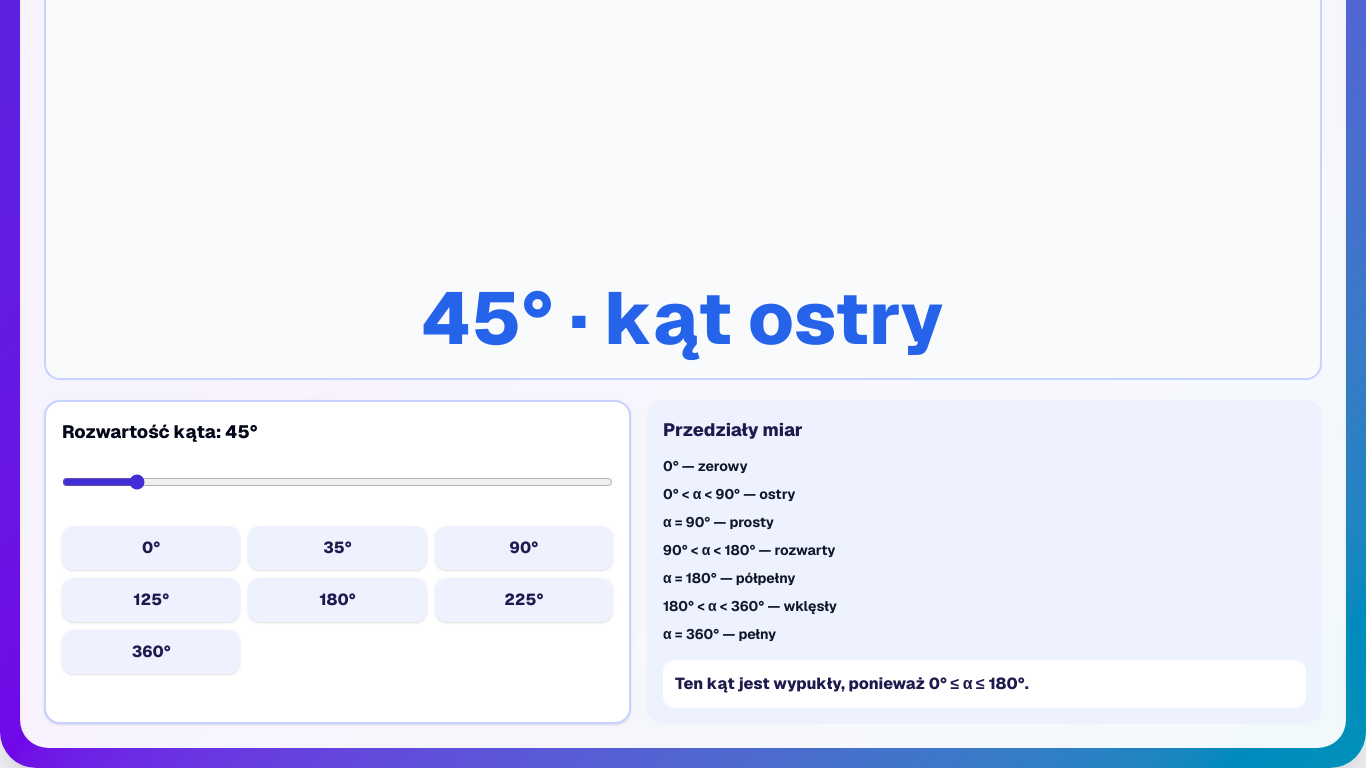
Test: M5-4.2 — rozpoznawanie kątów › zmienia wyłącznie rozwartość od 0° do 360° i podaje pełną klasyfikację
The width and height of the screenshot is (1366, 768).
(page scrolled)
Set the slider labelled "Rozwartość kąta" to "225": (404, 482) 62,458 -> 613,506
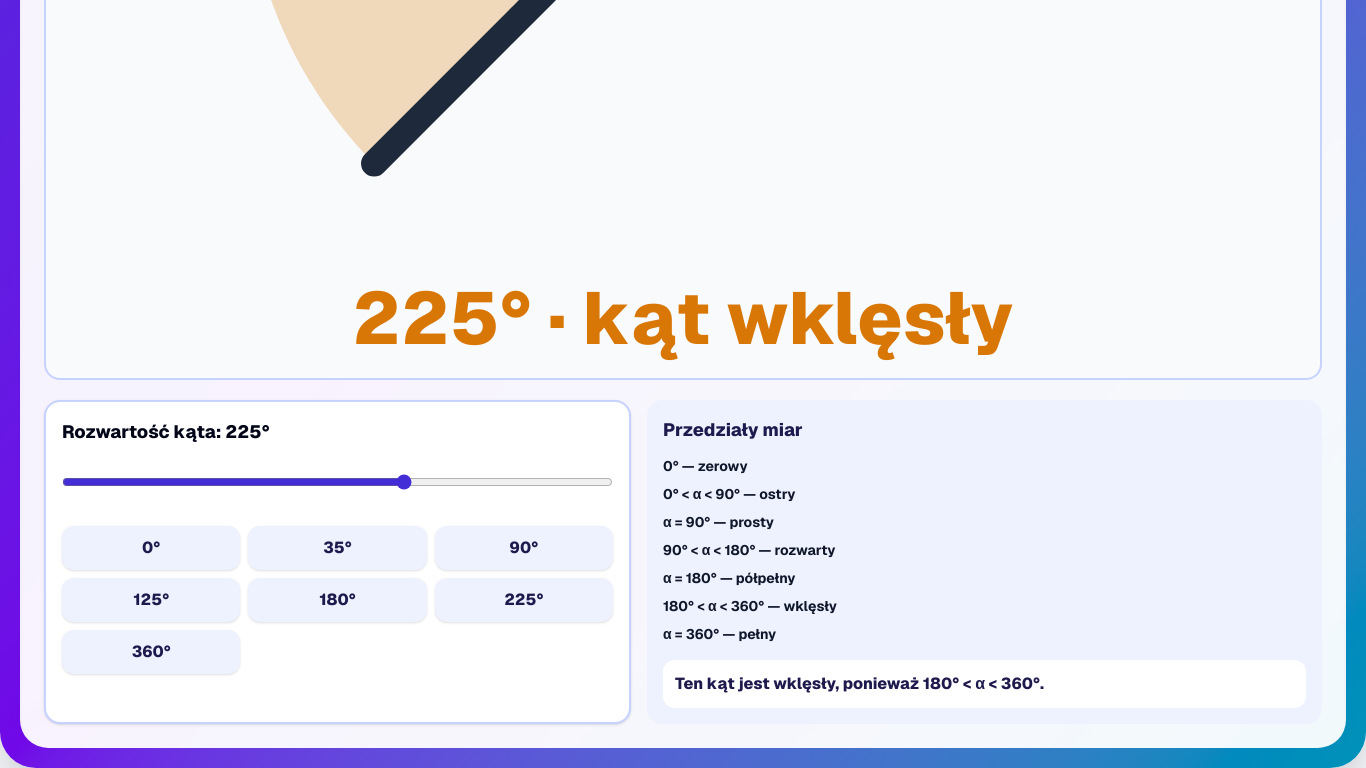
Expected: the text "225° · kąt wklęsły" is shown, 352,270 -> 1014,366
Expected: the list item "180° < α < 360° — wklęsły" is shown, 663,597 -> 837,615
Set the slider labelled "Rozwartość kąta" to "125": (256, 482) 62,458 -> 613,506
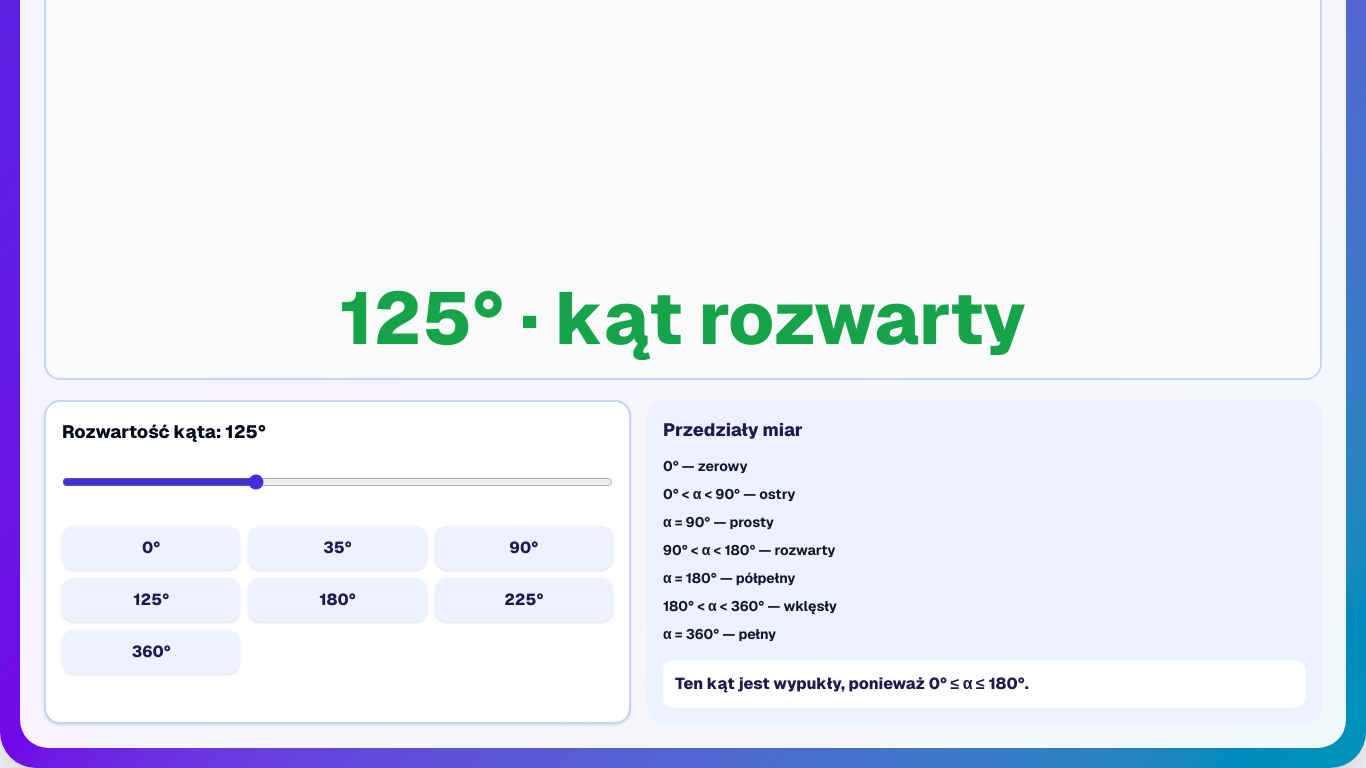
Expected: the text "Ten kąt jest wypukły, ponieważ 0° ≤ α ≤ 180°." is shown, 663,660 -> 1306,708
